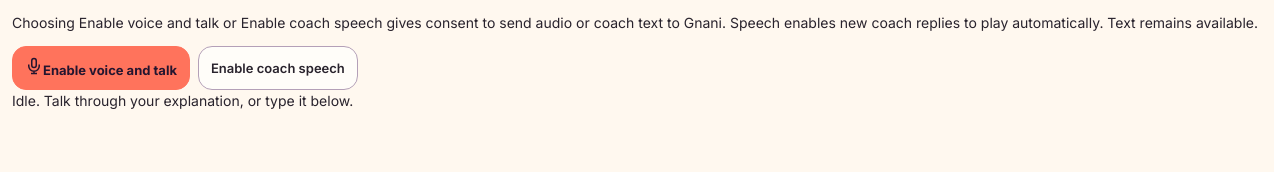
Scenario: voice-first controls and consent › requests microphone permission only after a consent gesture and never enables coach autoplay by talking
Later steps or results of the test are not shown.
Click the button "Enable voice and talk": (101, 68) [12,46,190,90]
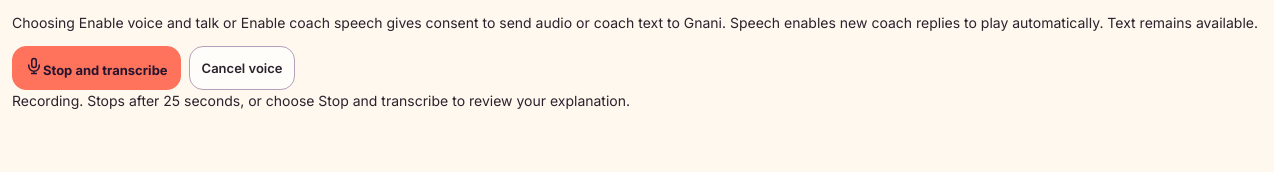
Expected: the message shows "Recording", [12,92,630,109]
